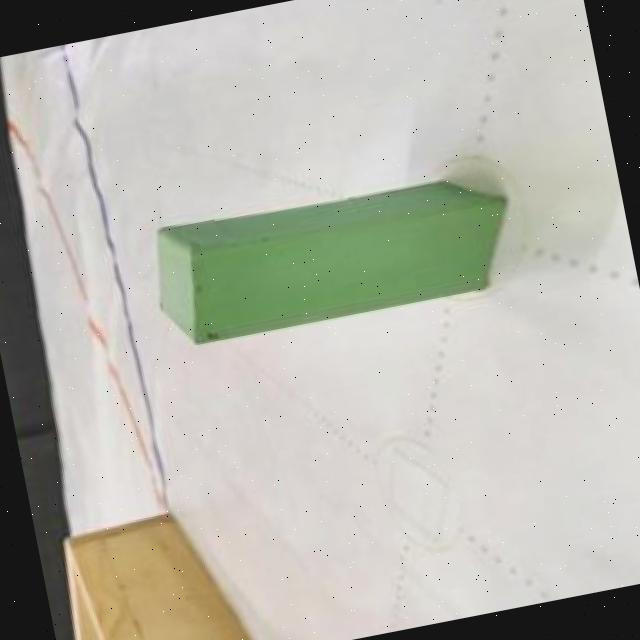greenbox: (140, 155, 522, 354)
